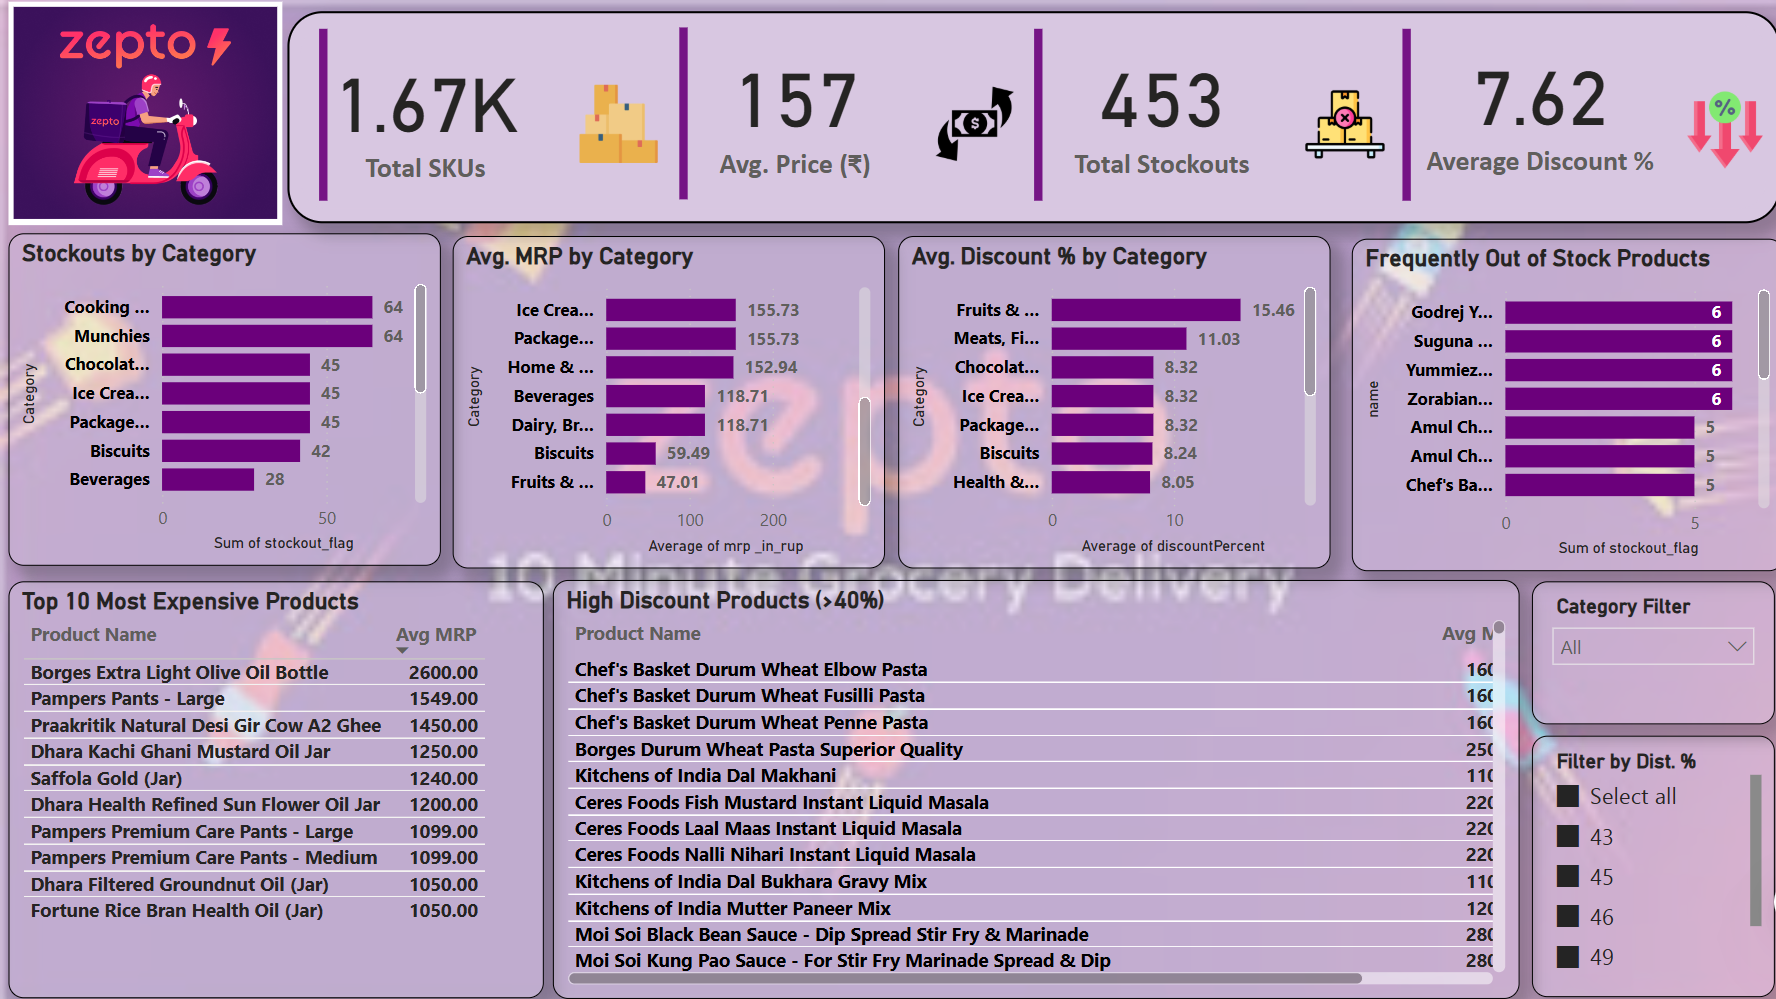

The dashboard page shown, as its layout file describes it:
{"tool":"powerbi","page":{"name":"Page 1","canvas":[1280,720],"ordinal":0},"visuals":[{"type":"shape","box":[206.9,9.1,1071,152.3],"z":0},{"type":"card","fields":{"Values":["Count(Cleaned Data.name)"]},"box":[214.7,20.8,182.2,122.3],"z":1000},{"type":"card","fields":{"Values":["Avg(Cleaned Data.mrp _in_rup)"]},"box":[451.7,16.7,238.3,123.3],"z":2000},{"type":"card","fields":{"Values":["Sum(Cleaned Data.stockout_flag)"]},"box":[715,16.7,238.3,123.3],"z":3000},{"type":"card","fields":{"Values":["Avg(Cleaned Data.discountPercent)"]},"box":[985.1,6.5,240.7,139.2],"z":4000},{"type":"clusteredBarChart","title":"Avg. MRP by Category","fields":{"Y":["Avg(Cleaned Data.mrp _in_rup)"],"Category":["Cleaned Data.Category"]},"box":[325,170,310,238.3],"z":5000},{"type":"clusteredBarChart","title":"Stockouts by Category","fields":{"Y":["Sum(Cleaned Data.stockout_flag)"],"Category":["Cleaned Data.Category"]},"box":[6.7,168.3,310,238.3],"z":6000},{"type":"clusteredBarChart","title":"Avg. Discount % by Category","fields":{"Y":["Avg(Cleaned Data.discountPercent)"],"Category":["Cleaned Data.Category"]},"box":[645,170,310,238.3],"z":7000},{"type":"image","box":[923.3,56.7,83.3,66.7],"z":8000},{"type":"shape","box":[176.7,21.7,111.7,123.3],"z":9000},{"type":"image","box":[403.3,56.7,83.3,66.7],"z":10000},{"type":"shape","box":[435,20,111.7,123.3],"z":11000},{"type":"shape","box":[690,21.7,111.7,123.3],"z":12000},{"type":"image","box":[658.3,56.7,83.3,66.7],"z":13000},{"type":"shape","box":[953.3,21.7,111.7,123.3],"z":14000},{"type":"image","box":[1196.7,61.7,83.3,66.7],"z":15000},{"type":"image","box":[6.7,1.7,196.7,160],"z":16000},{"type":"tableEx","title":" Top 10 Most Expensive Products","fields":{"Values":["Cleaned Data.name","Avg(Cleaned Data.mrp _in_rup)"]},"box":[6.5,417.7,383.9,299.3],"z":17000},{"type":"clusteredBarChart","title":"Frequently Out of Stock Products","fields":{"Category":["Cleaned Data.name"],"Y":["Sum(Cleaned Data.stockout_flag)"]},"box":[970,171.7,310,238.3],"z":18000},{"type":"slicer","fields":{"Values":["Cleaned Data.discountPercent"]},"box":[1099.6,528.3,174.4,187.4],"z":19000},{"type":"tableEx","title":"High Discount Products (>40%)","fields":{"Values":["Cleaned Data.name","Avg(Cleaned Data.mrp _in_rup)","Sum(Cleaned Data.discountPercent)"]},"box":[396.9,416.4,693.6,300.6],"z":20000},{"type":"slicer","fields":{"Values":["Cleaned Data.Category"]},"box":[1099.6,417.7,174.4,102.8],"z":21000}]}

Visuals, with their boxes in screenshot pixels (x1, y1, x2, y2), scaled from the page's 1280x720 canvas onto the 1776x999 screenshot:
shape: BBox(287, 13, 1773, 224)
card - Count(Cleaned Data.name): BBox(298, 29, 551, 199)
card - Avg(Cleaned Data.mrp _in_rup): BBox(627, 23, 957, 194)
card - Sum(Cleaned Data.stockout_flag): BBox(992, 23, 1323, 194)
card - Avg(Cleaned Data.discountPercent): BBox(1367, 9, 1701, 202)
"Avg. MRP by Category" clusteredBarChart: BBox(451, 236, 881, 567)
"Stockouts by Category" clusteredBarChart: BBox(9, 234, 439, 564)
"Avg. Discount % by Category" clusteredBarChart: BBox(895, 236, 1325, 567)
image: BBox(1281, 79, 1397, 171)
shape: BBox(245, 30, 400, 201)
image: BBox(560, 79, 675, 171)
shape: BBox(604, 28, 759, 199)
shape: BBox(957, 30, 1112, 201)
image: BBox(913, 79, 1029, 171)
shape: BBox(1323, 30, 1478, 201)
image: BBox(1660, 86, 1775, 178)
image: BBox(9, 2, 282, 224)
" Top 10 Most Expensive Products" tableEx: BBox(9, 580, 542, 995)
"Frequently Out of Stock Products" clusteredBarChart: BBox(1346, 238, 1775, 569)
slicer - Cleaned Data.discountPercent: BBox(1526, 733, 1768, 993)
"High Discount Products (>40%)" tableEx: BBox(551, 578, 1513, 995)
slicer - Cleaned Data.Category: BBox(1526, 580, 1768, 722)
